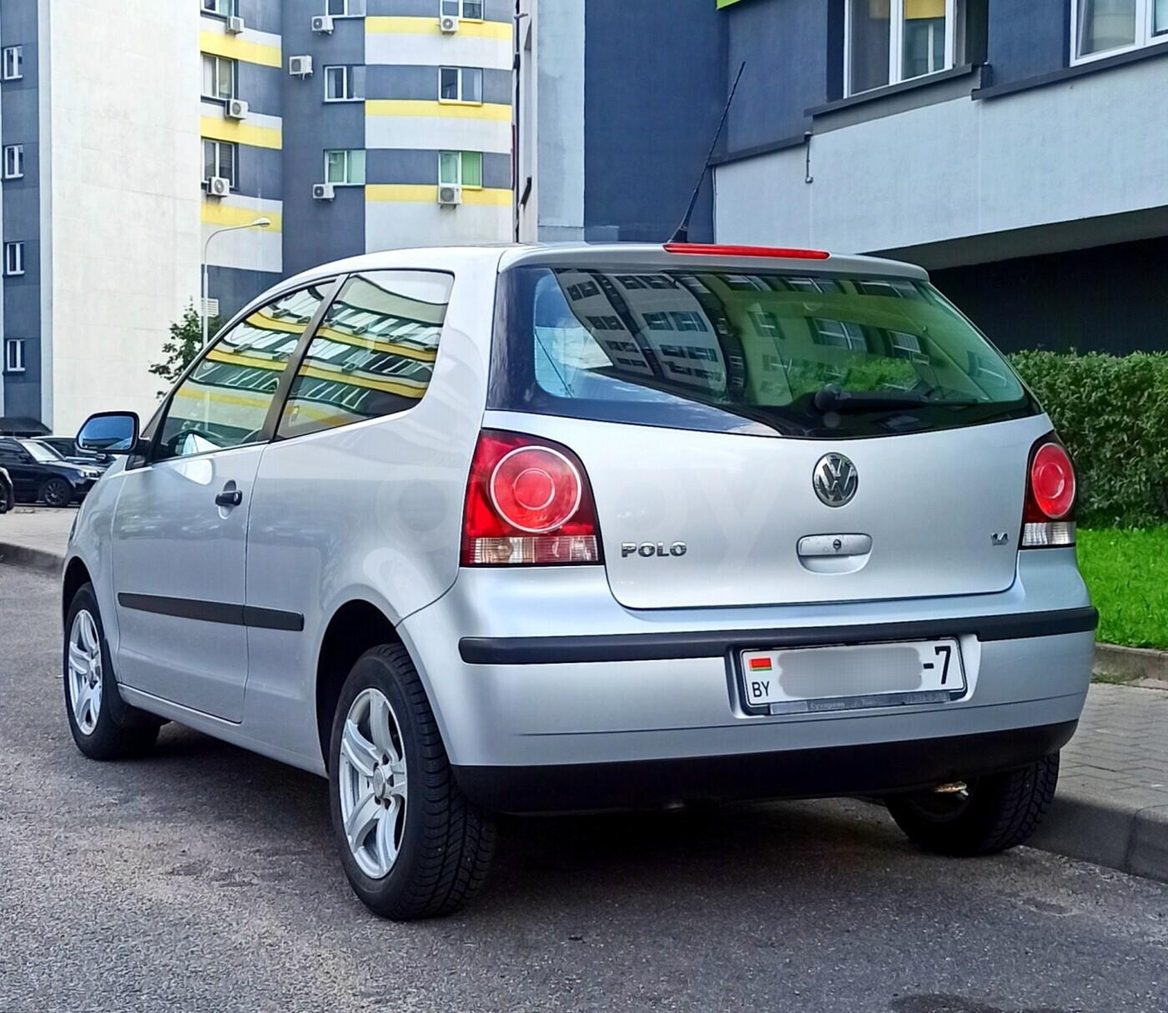Polo_2005-2009: (48, 236, 1110, 922)
